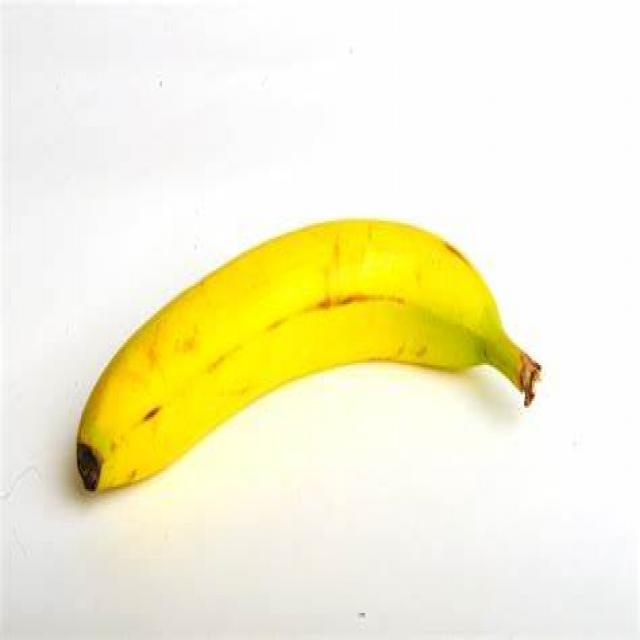Banana: (66, 213, 551, 507)
